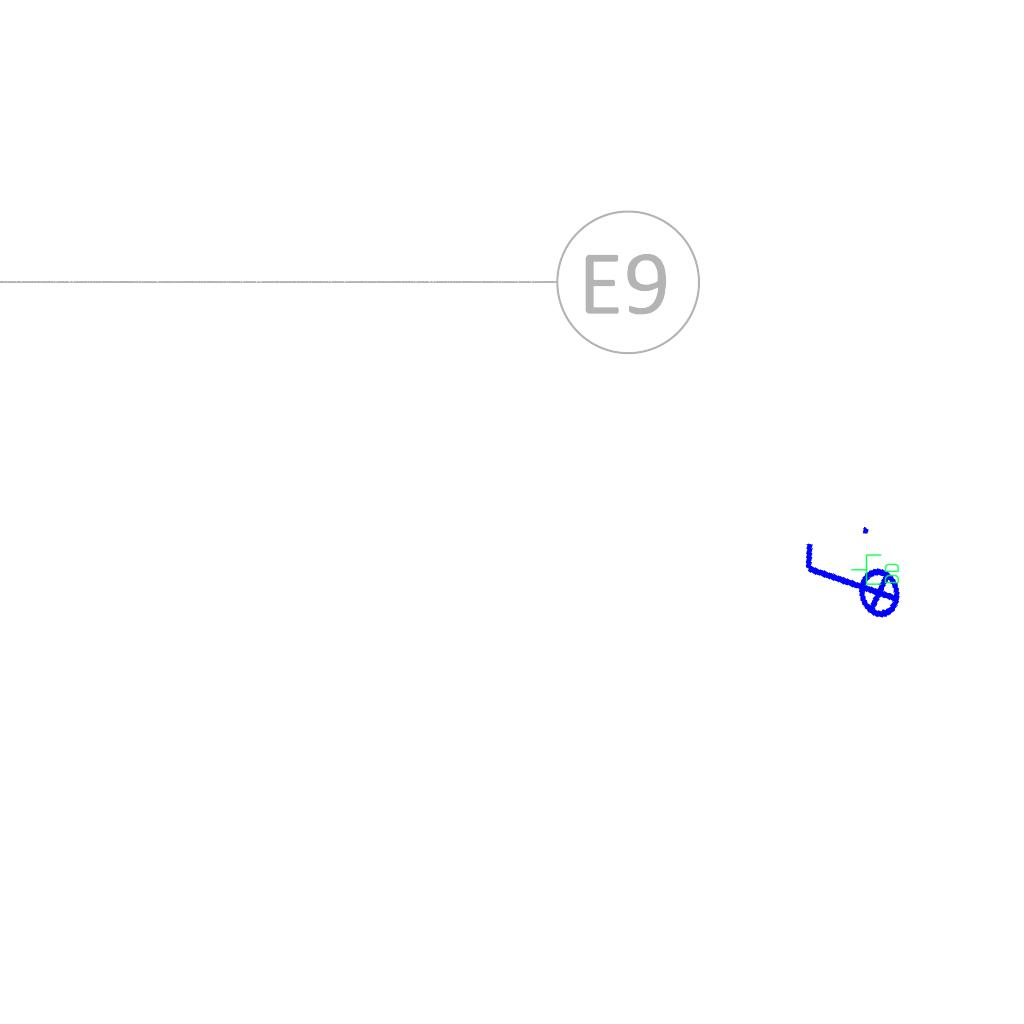Ausschalter_beleuchtet: (790, 516, 910, 648)
Datenanschluss_zweifach: (850, 553, 901, 587)
